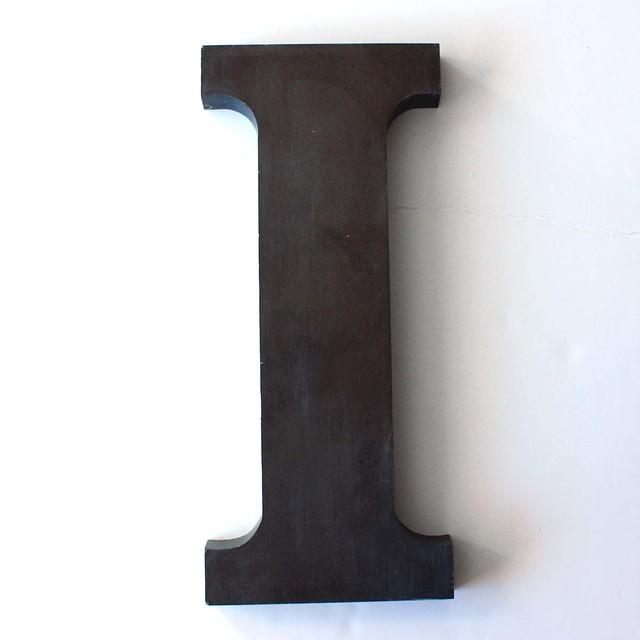I: (178, 26, 475, 614)
